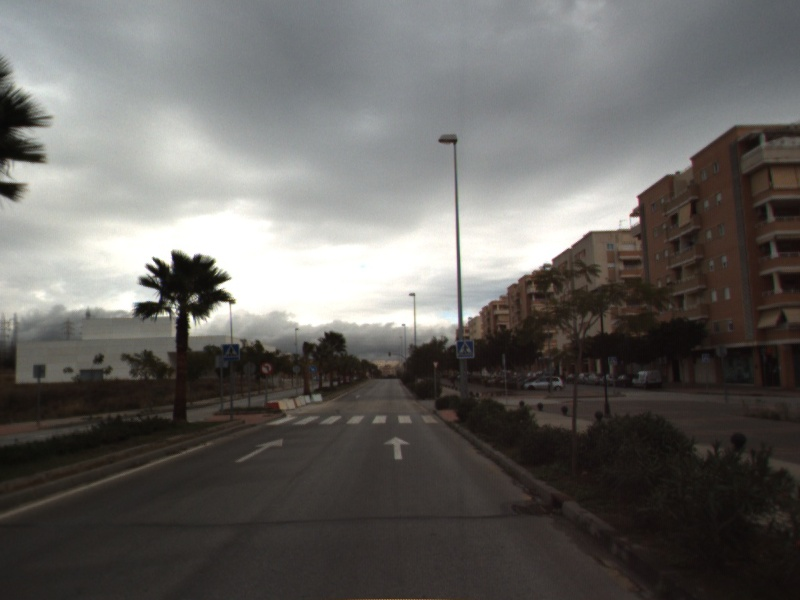STRAIGHT: (233, 437, 285, 464), (382, 434, 412, 461)
